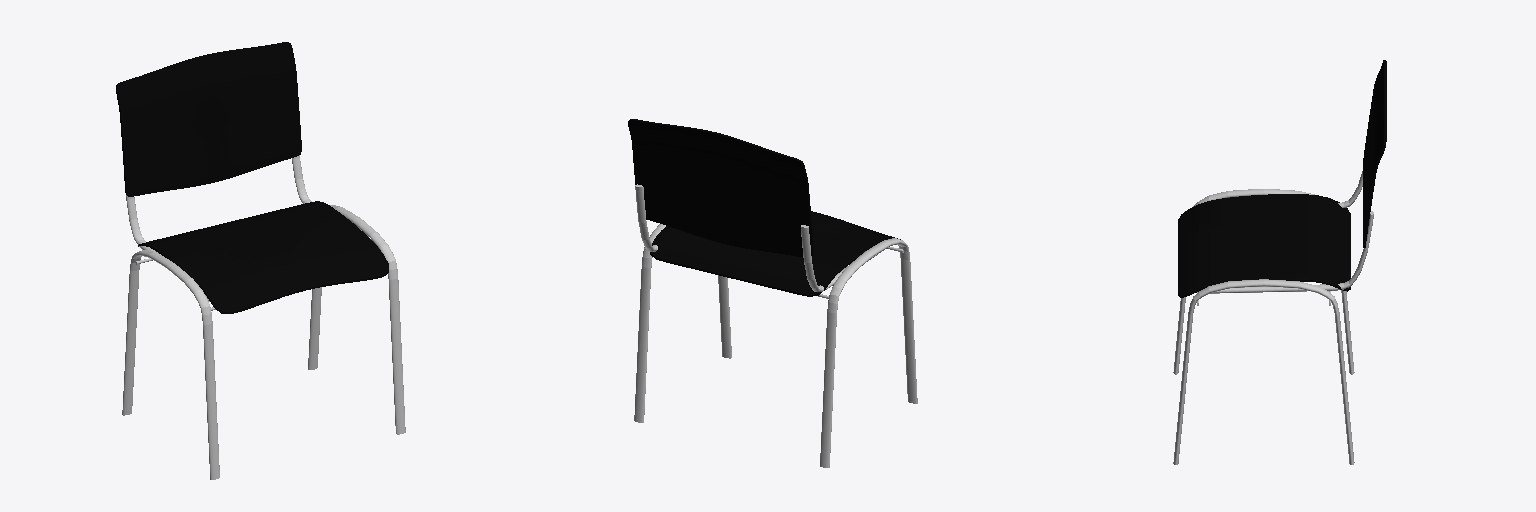
Rendered from ISO.obj.
3 renders of one model, left to right at view 1: azimuth 30°, elevation 25°; view 2: azimuth 150°, elevation 25°; view 3: azimuth 270°, elevation 25°, orthographic.
Visible parts, largest first — view 1: Cube.002_Cube.004, Cube.001_Cube.003, Cylinder.004_Cylinder.005; view 2: Cube.002_Cube.004, Cube.001_Cube.003, Cylinder.004_Cylinder.005; view 3: Cube.001_Cube.003, Cylinder.004_Cylinder.005, Cube.002_Cube.004.
Boxes of the visible parts, box(x1,y1,x2,y2) form: Cube.002_Cube.004: box(116, 42, 301, 196); Cube.001_Cube.003: box(138, 201, 388, 313); Cylinder.004_Cylinder.005: box(122, 155, 405, 479); Cube.002_Cube.004: box(628, 119, 813, 257); Cube.001_Cube.003: box(650, 211, 900, 296); Cylinder.004_Cylinder.005: box(634, 184, 917, 467); Cube.001_Cube.003: box(1178, 194, 1350, 297); Cylinder.004_Cylinder.005: box(1173, 171, 1373, 464); Cube.002_Cube.004: box(1363, 60, 1386, 247).
Bounding box in the file's own units: 1.03 × 1.64 × 0.9783.